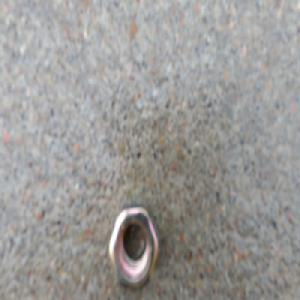Nut: (107, 201, 161, 292)
